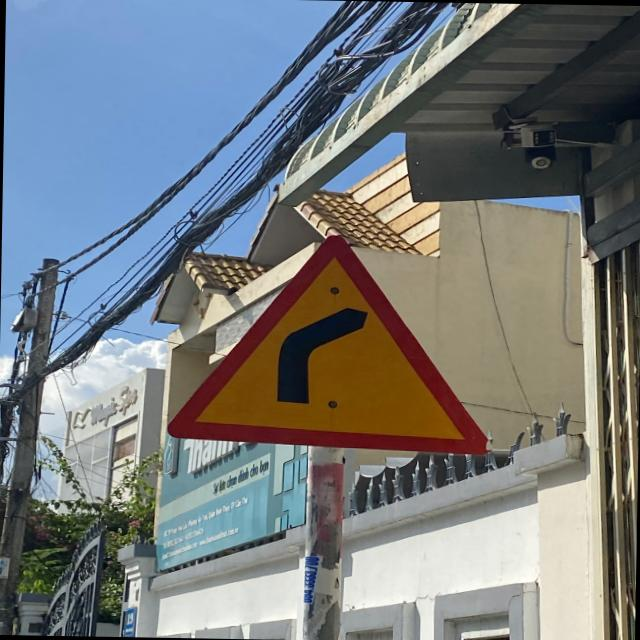Duong_Nguoi_Di_Bo_Cat_Ngang: (165, 231, 490, 451)
